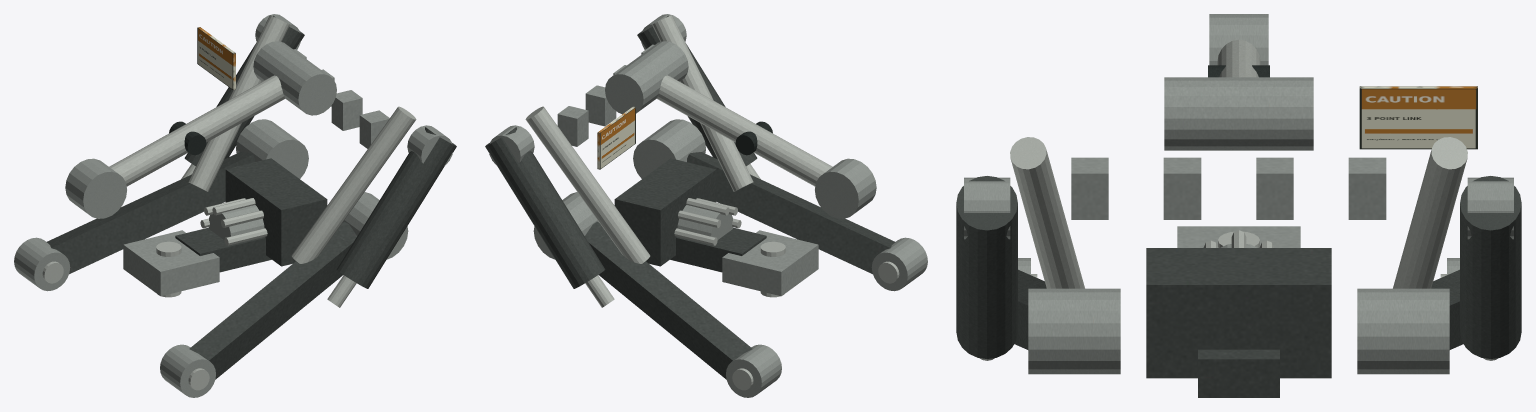
The model's file is PZ_FIELDWARD_75D_Rear_Hydraulic_3PointHitch.glb.
3 views of the same model, side by side, from view 1: azimuth 30°, elevation 25°; view 2: azimuth 150°, elevation 25°; view 3: azimuth 270°, elevation 25° (orthographic). The views are drawn at different scales.
Visible parts, largest first — view 1: LowerLink_R_HeavyArm, LowerLink_L_HeavyArm, HydraulicLiftCylinder_R, Rear_PTO_Shield, TopLink_Threaded_AdjustableBar, LiftRod_R, Rear_Drawbar_Receiver, TopLink_PivotPin, TopLink_ThreadedEndEye, LiftRod_L, LowerLink_L_PivotStud, Rear_Drawbar_Frame_Central (+14 smaller); view 2: LowerLink_L_HeavyArm, LowerLink_R_HeavyArm, HydraulicLiftCylinder_L, Rear_PTO_Shield, TopLink_Threaded_AdjustableBar, LiftRod_L, Rear_Drawbar_Receiver, TopLink_PivotPin, TopLink_ThreadedEndEye, LiftRod_R, LowerLink_R_PivotStud, Rear_Drawbar_Frame_Central (+14 smaller); view 3: Rear_PTO_Shield, TopLink_PivotPin, HydraulicLiftCylinder_L, HydraulicLiftCylinder_R, LowerLink_L_PivotStud, LowerLink_R_PivotStud, Hitch_Caution_Sticker, LiftRod_L, LiftRod_R, Rear_Drawbar_Frame_Central, RearHydraulicValveBlock_1, RearHydraulicValveBlock_3 (+9 smaller).
Boxes of the visible parts, x1,y1,x2,y2 form: LowerLink_R_HeavyArm: (189, 221, 356, 379); LowerLink_L_HeavyArm: (47, 152, 254, 274); HydraulicLiftCylinder_R: (336, 127, 456, 288); Rear_PTO_Shield: (225, 158, 327, 266); TopLink_Threaded_AdjustableBar: (109, 75, 285, 186); LiftRod_R: (291, 106, 416, 263); Rear_Drawbar_Receiver: (123, 230, 219, 296); TopLink_PivotPin: (253, 41, 336, 115); TopLink_ThreadedEndEye: (65, 158, 126, 218); LiftRod_L: (188, 15, 289, 191); LowerLink_L_PivotStud: (236, 119, 308, 178); Rear_Drawbar_Frame_Central: (175, 227, 271, 272); LowerLink_L_HeavyArm: (585, 221, 752, 379); LowerLink_R_HeavyArm: (687, 152, 894, 274); HydraulicLiftCylinder_L: (485, 127, 605, 288); Rear_PTO_Shield: (614, 158, 716, 266); TopLink_Threaded_AdjustableBar: (656, 75, 832, 186); LiftRod_L: (525, 106, 650, 263); Rear_Drawbar_Receiver: (722, 230, 818, 296); TopLink_PivotPin: (605, 41, 688, 114); TopLink_ThreadedEndEye: (815, 158, 876, 218); LiftRod_R: (652, 15, 753, 191); LowerLink_R_PivotStud: (633, 119, 705, 178); Rear_Drawbar_Frame_Central: (670, 227, 766, 272); Rear_PTO_Shield: (1146, 248, 1331, 378); TopLink_PivotPin: (1164, 77, 1313, 150); HydraulicLiftCylinder_L: (1460, 176, 1521, 358); HydraulicLiftCylinder_R: (956, 176, 1017, 358); LowerLink_L_PivotStud: (1357, 288, 1449, 374); LowerLink_R_PivotStud: (1028, 288, 1120, 374); Hitch_Caution_Sticker: (1359, 86, 1477, 149); LiftRod_L: (1393, 137, 1467, 288); LiftRod_R: (1010, 137, 1084, 288); Rear_Drawbar_Frame_Central: (1198, 349, 1279, 397); RearHydraulicValveBlock_1: (1163, 157, 1201, 219); RearHydraulicValveBlock_3: (1348, 157, 1386, 219).
Bounding box in the file's own units: 1.13 × 0.834 × 1.1.
5 materials, 5 textured.
